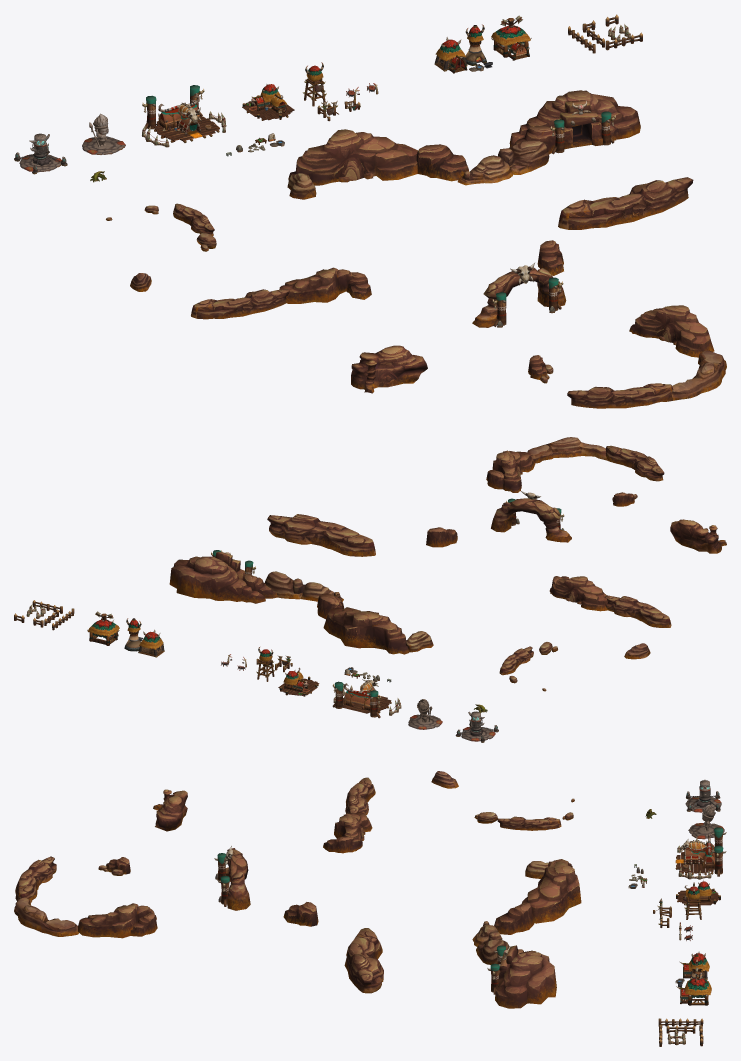
Rendered from buluochaifen1.FBX.
3 renders of one model, top to bottom at view 1: azimuth 30°, elevation 25°; view 2: azimuth 150°, elevation 25°; view 3: azimuth 270°, elevation 25°, orthographic. The views are drawn at different scales.
Visible parts, largest first — view 1: sl_shidui037, bl_shandong, sl_shidui031, sl_shidui017, sl_shidui008, sl_shidui036, sl_shidui059, sl_shidui019, sl_shidui058, bl_qiuzhangzhijia, sl_shimen, sl_shidui018 (+8 smaller); view 2: bl_shandong, sl_shidui037, sl_shidui031, sl_shimen, sl_shidui017, sl_shidui059, sl_shidui008, sl_shidui018, sl_shidui036, sl_shidui058, sl_shidui019, bl_qiuzhangzhijia (+5 smaller); view 3: sl_shidui037, bl_shandong, sl_shidui017, sl_shidui031, sl_shidui059, sl_shidui018, bl_qiuzhangzhijia, sl_shimen, sl_shidui019, sl_shidui008, sl_shidui036, bl_minju01 (+6 smaller).
Part boxes in pixels (left/top/right/bottom): sl_shidui037: left=288, top=129, right=468, bottom=185; bl_shandong: left=509, top=90, right=640, bottom=154; sl_shidui031: left=558, top=177, right=693, bottom=229; sl_shidui017: left=629, top=305, right=714, bottom=357; sl_shidui008: left=351, top=345, right=427, bottom=393; sl_shidui036: left=457, top=140, right=549, bottom=185; sl_shidui059: left=279, top=267, right=371, bottom=303; sl_shidui019: left=567, top=383, right=673, bottom=408; sl_shidui058: left=191, top=289, right=289, bottom=319; bl_qiuzhangzhijia: left=154, top=95, right=219, bottom=142; sl_shimen: left=472, top=266, right=566, bottom=327; sl_shidui018: left=662, top=350, right=726, bottom=401; bl_shandong: left=169, top=552, right=277, bottom=603; sl_shidui037: left=317, top=593, right=409, bottom=654; sl_shidui031: left=267, top=514, right=375, bottom=556; sl_shimen: left=491, top=498, right=571, bottom=542; sl_shidui017: left=486, top=450, right=535, bottom=492; sl_shidui059: left=549, top=576, right=607, bottom=611; sl_shidui008: left=670, top=519, right=726, bottom=553; sl_shidui018: left=527, top=437, right=611, bottom=463; sl_shidui036: left=264, top=571, right=343, bottom=601; sl_shidui058: left=604, top=595, right=671, bottom=627; sl_shidui019: left=605, top=445, right=664, bottom=481; bl_qiuzhangzhijia: left=342, top=679, right=391, bottom=713; sl_shidui037: left=494, top=859, right=581, bottom=934; bl_shandong: left=495, top=945, right=556, bottom=1008; sl_shidui017: left=78, top=903, right=157, bottom=938; sl_shidui031: left=344, top=928, right=383, bottom=993; sl_shidui059: left=323, top=812, right=372, bottom=853; sl_shidui018: left=14, top=897, right=78, bottom=936; bl_qiuzhangzhijia: left=675, top=834, right=714, bottom=875; sl_shimen: left=226, top=848, right=250, bottom=910; sl_shidui019: left=15, top=856, right=56, bottom=901; sl_shidui008: left=153, top=789, right=187, bottom=831; sl_shidui036: left=472, top=921, right=509, bottom=964; bl_minju01: left=676, top=967, right=711, bottom=1005.
Bounding box in the file's own units: 55261 × 4183 × 62313.
